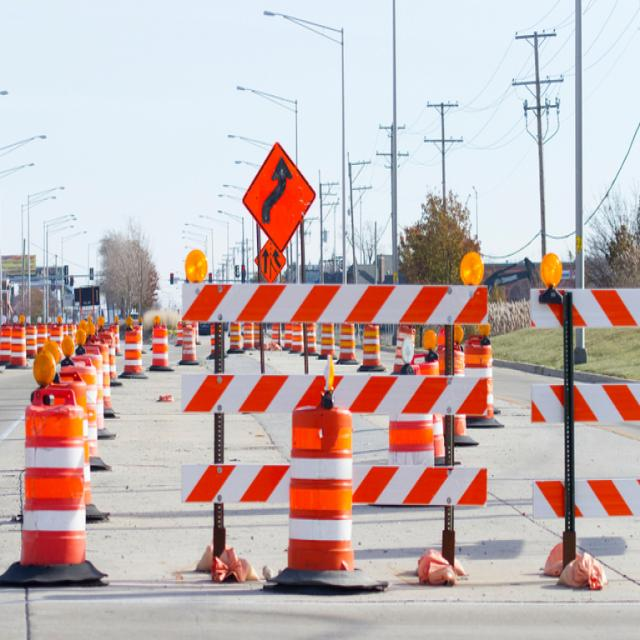cone: (135, 223, 497, 555)
